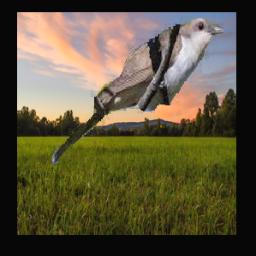Cuckoo: (51, 16, 224, 164)
